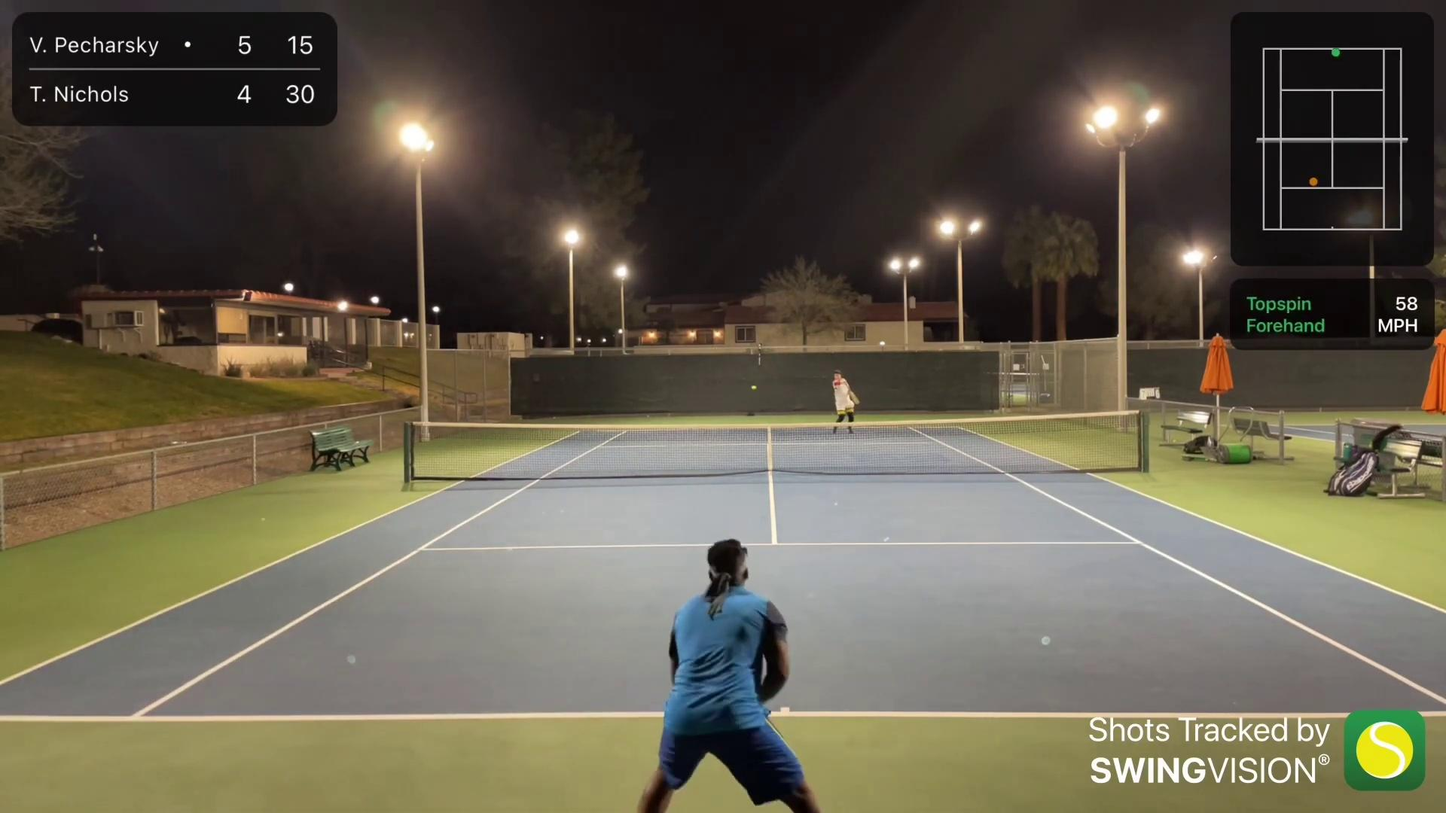ball: (750, 385, 754, 391)
